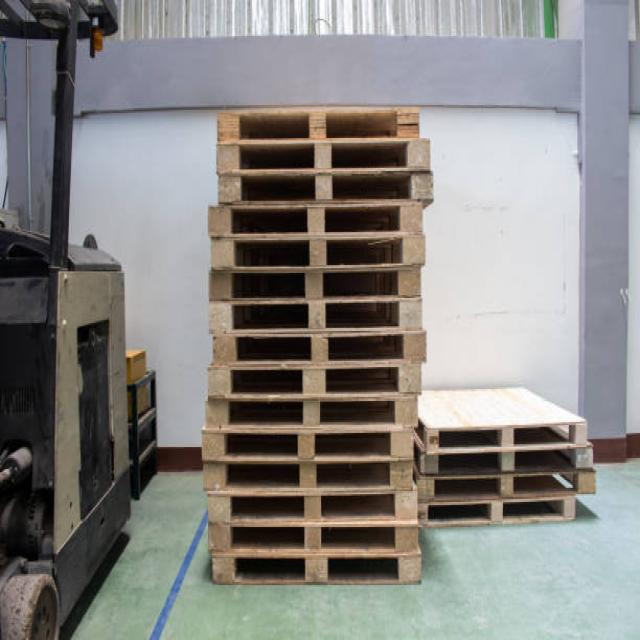Wooden-Pallets: (198, 200, 432, 240), (200, 228, 428, 268), (198, 422, 414, 464), (201, 489, 423, 528), (197, 389, 419, 428), (207, 550, 425, 589), (202, 294, 425, 332), (208, 167, 435, 204), (203, 361, 424, 398), (192, 456, 418, 491), (202, 267, 425, 301), (213, 110, 421, 145), (426, 432, 593, 475), (211, 141, 435, 171), (415, 468, 597, 502), (423, 420, 589, 448), (415, 496, 575, 524)
